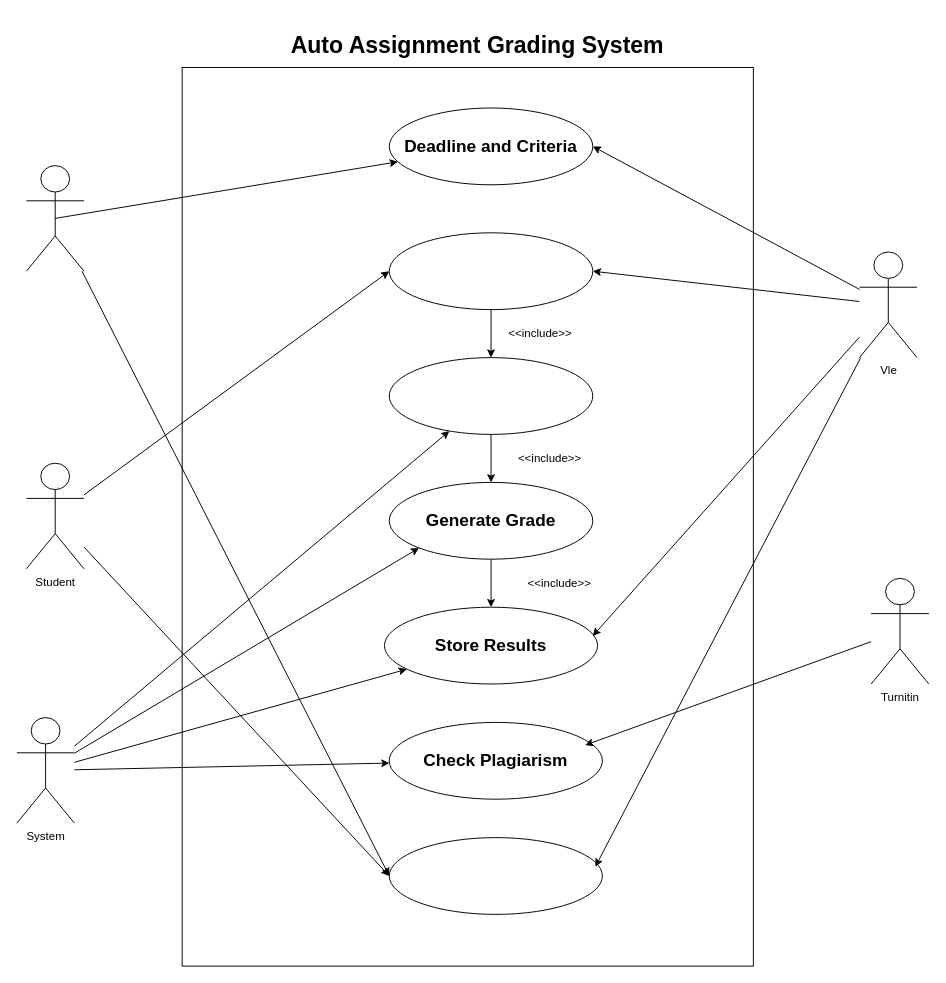
Some shapes in this 946 by 983 pixel diagram are drawn without their labels. The centre of each missing label's shape, as x and y in pixels:
Professor: point (54, 218)
Run Code: point (490, 395)
Submit Assignment: point (490, 271)
View Results: point (495, 875)
